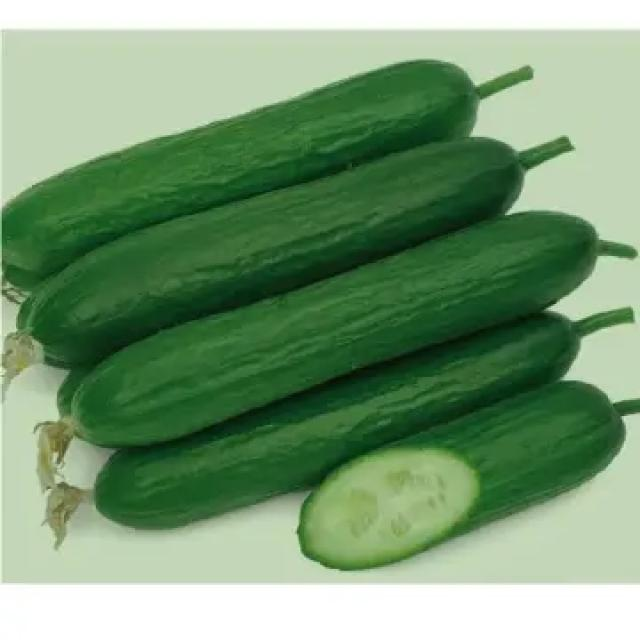cucumber: (1, 61, 622, 570)
